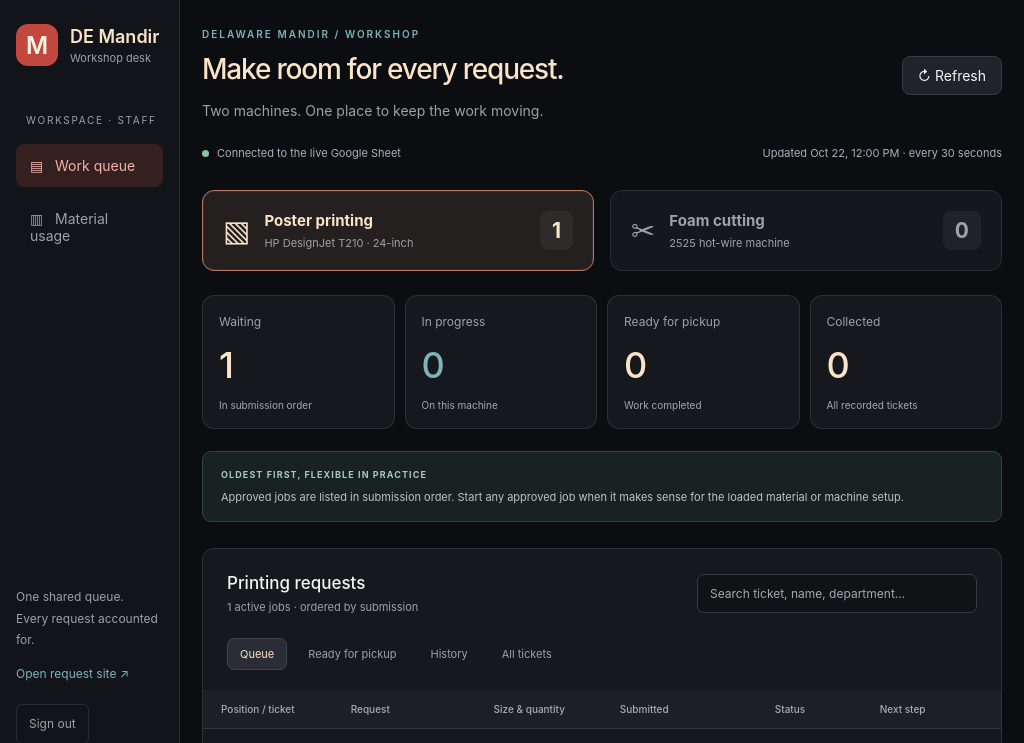
a failed refresh shows stale-data warning and disables starting a job
Expected: the heading "Printing requests" is shown, [227, 573, 365, 593]
Click the button "↻ Refresh": (952, 75) [902, 56, 1002, 95]
(page scrolled)
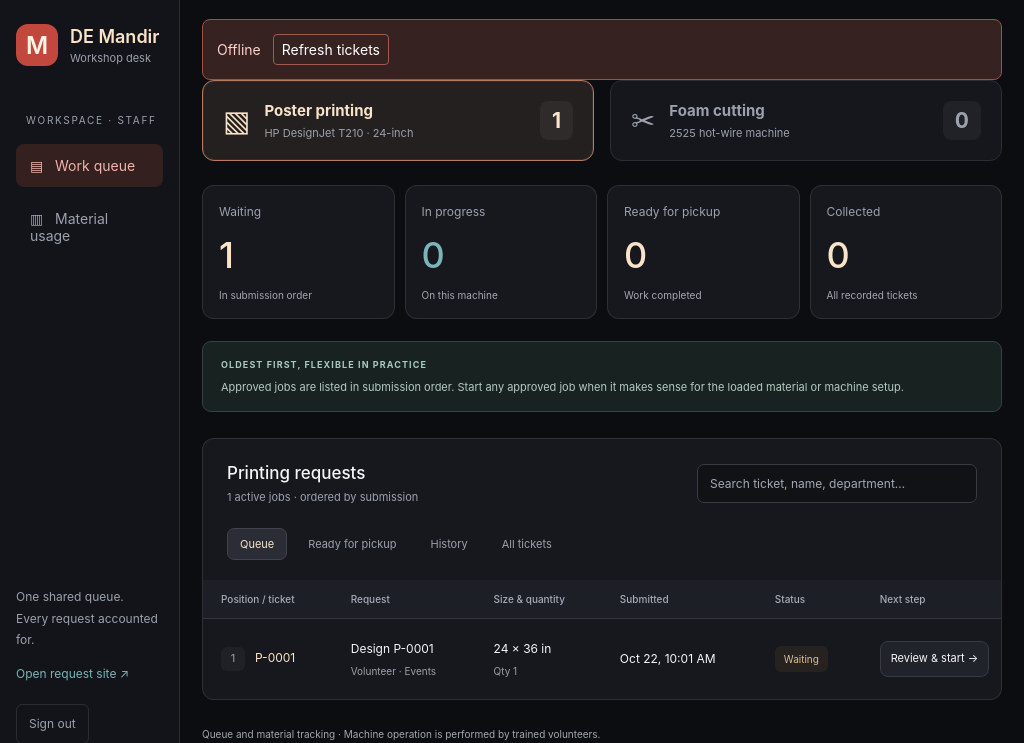
Expected: the message shows "Offline", [217, 41, 261, 58]
Click the button "1 P-0001": (258, 659) [221, 647, 295, 671]
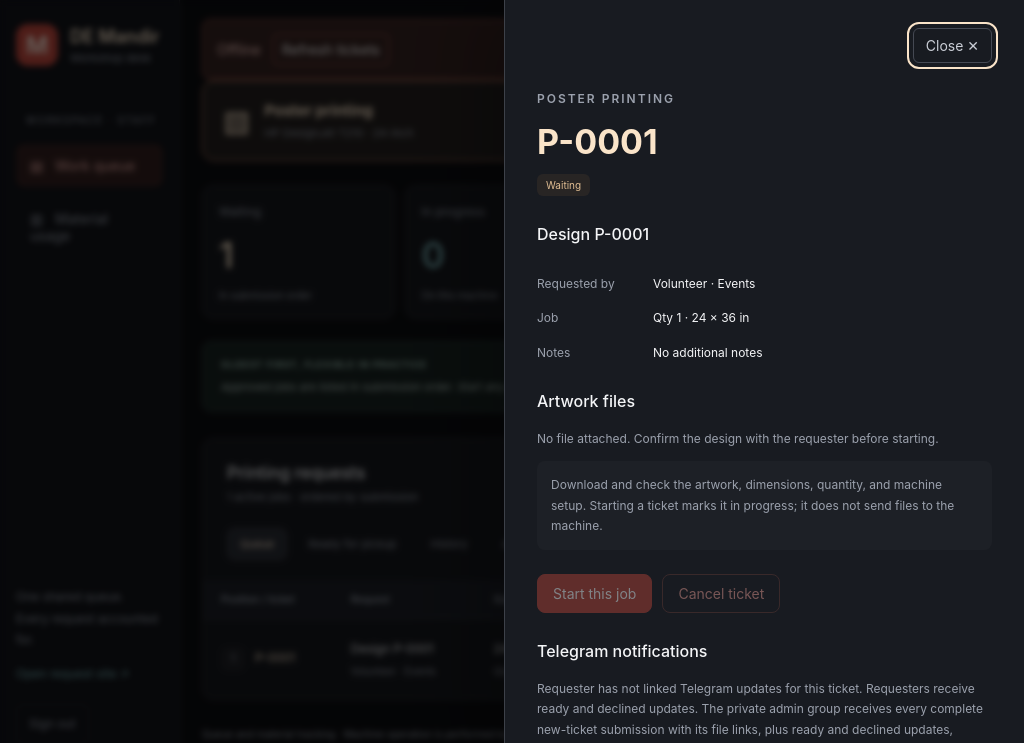
Expected: the button "Start this job" is disabled, [537, 574, 652, 613]
